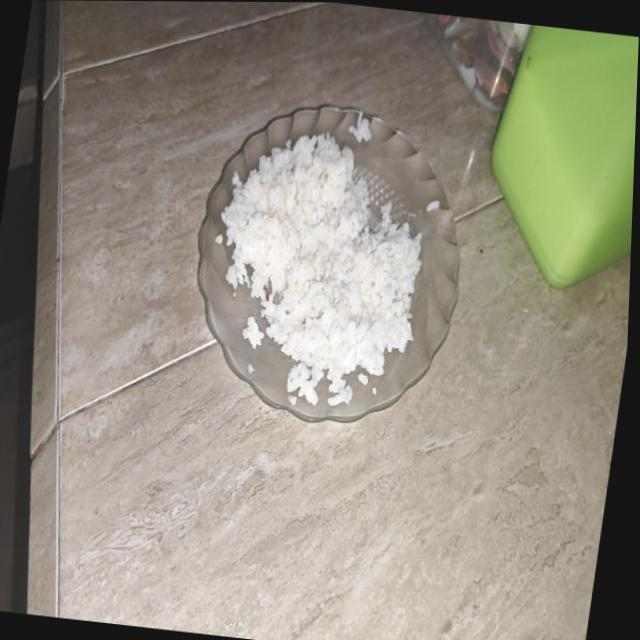nasi_putih: (221, 134, 421, 393)
